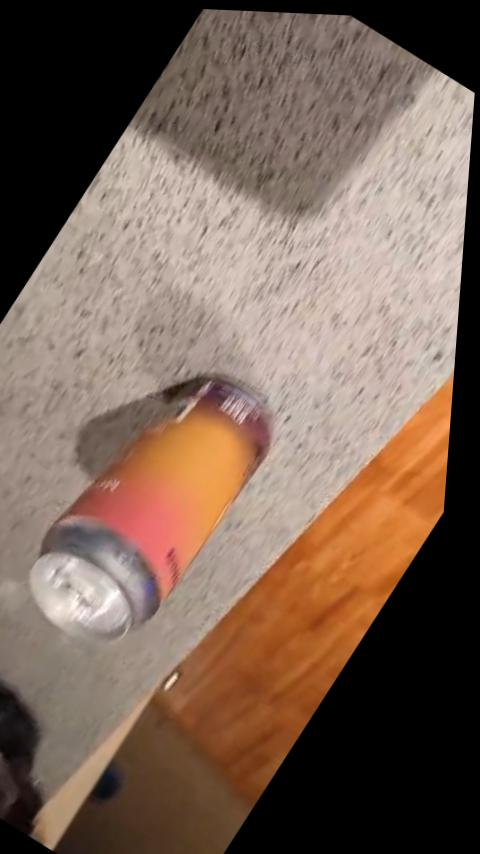metal: (29, 380, 269, 639)
